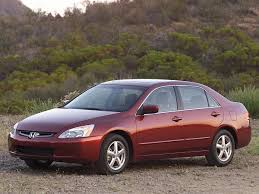car: (7, 67, 253, 174)
